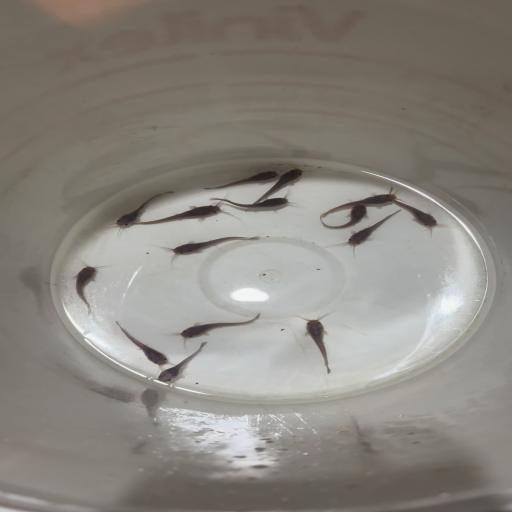lele: (101, 190, 175, 234), (338, 208, 404, 254), (171, 310, 261, 342), (296, 313, 343, 374), (112, 319, 170, 367), (154, 234, 263, 259), (135, 201, 227, 230), (156, 341, 210, 383), (319, 189, 398, 216), (70, 262, 110, 315), (253, 166, 306, 203), (396, 197, 448, 233), (198, 169, 280, 191), (208, 192, 293, 212), (318, 204, 369, 229)
